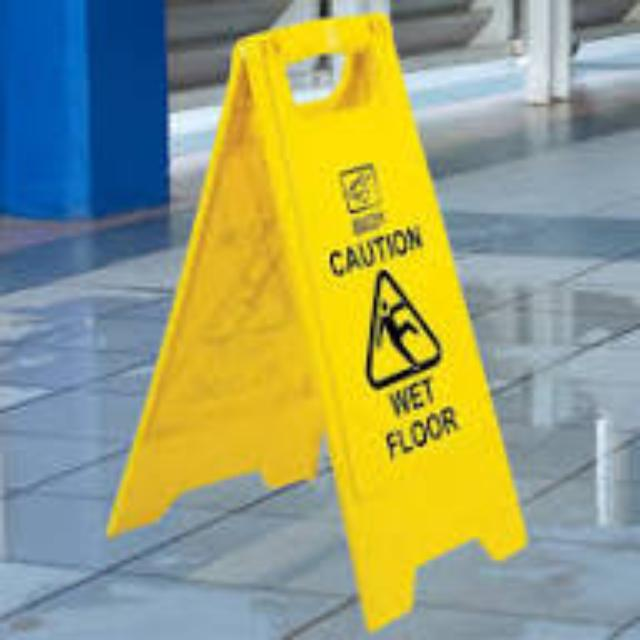slippery_floor: (107, 20, 523, 627)
